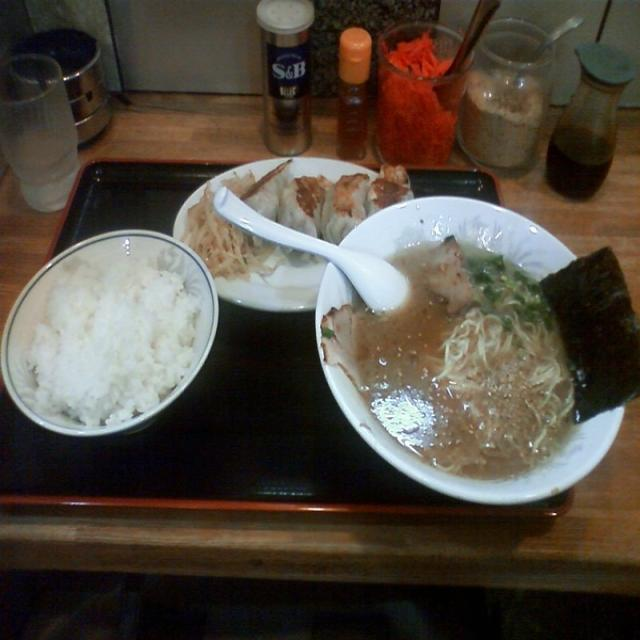Rice: (16, 227, 200, 435)
